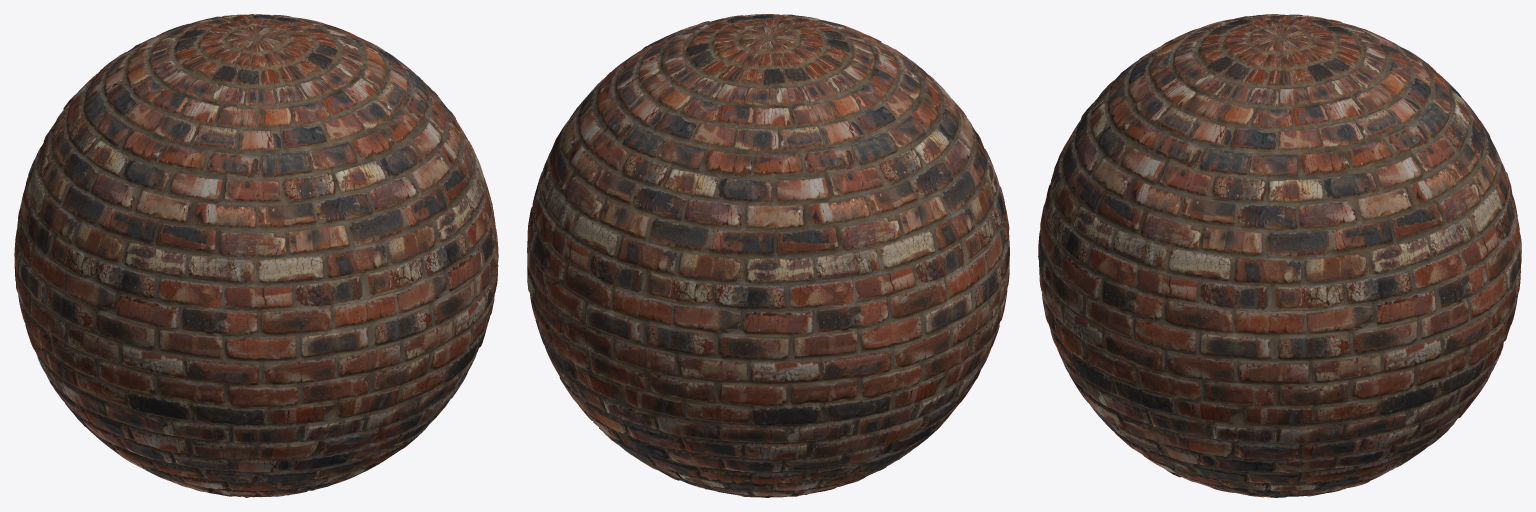
Rendered from brick_wall_001_4k.gltf.
3 renders of one model, left to right at view 1: azimuth 30°, elevation 25°; view 2: azimuth 150°, elevation 25°; view 3: azimuth 270°, elevation 25°, orthographic.
Parts seen in each view (by area): view 1: sphere_gltf; view 2: sphere_gltf; view 3: sphere_gltf.
Part boxes in pixels (x1=…): sphere_gltf: x1=14, y1=14, x2=498, y2=497; sphere_gltf: x1=527, y1=14, x2=1009, y2=497; sphere_gltf: x1=1038, y1=14, x2=1521, y2=497.
Bounding box in the file's own units: 3.02 × 3.02 × 3.02.
1 material, 1 textured.
